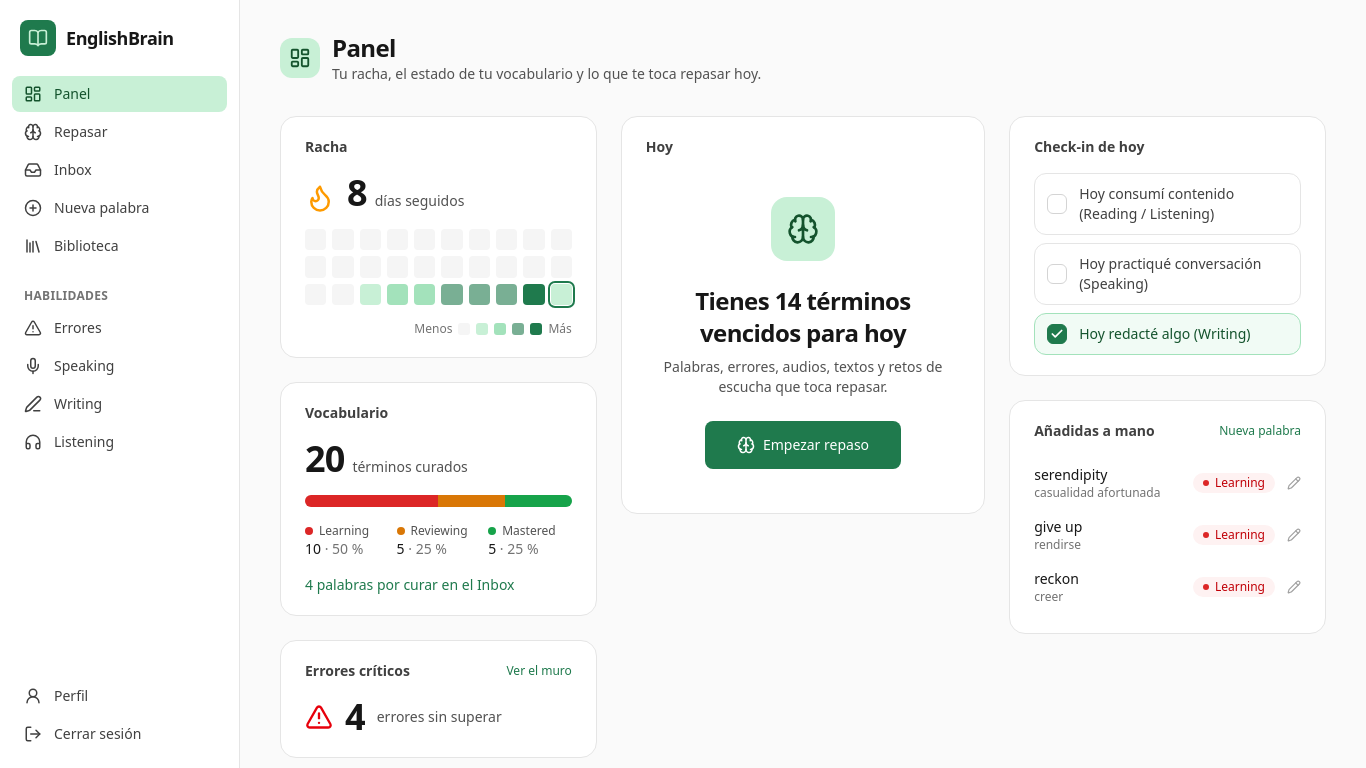
Test: 17.4 · Barra lateral › desmarcar lo quita; si el Backend falla, la casilla vuelve y avisa
Click the checkbox labelled "Hoy redacté algo (Writing)" at x=1168, y=334, box x1=1034 y1=313 x2=1301 y2=355
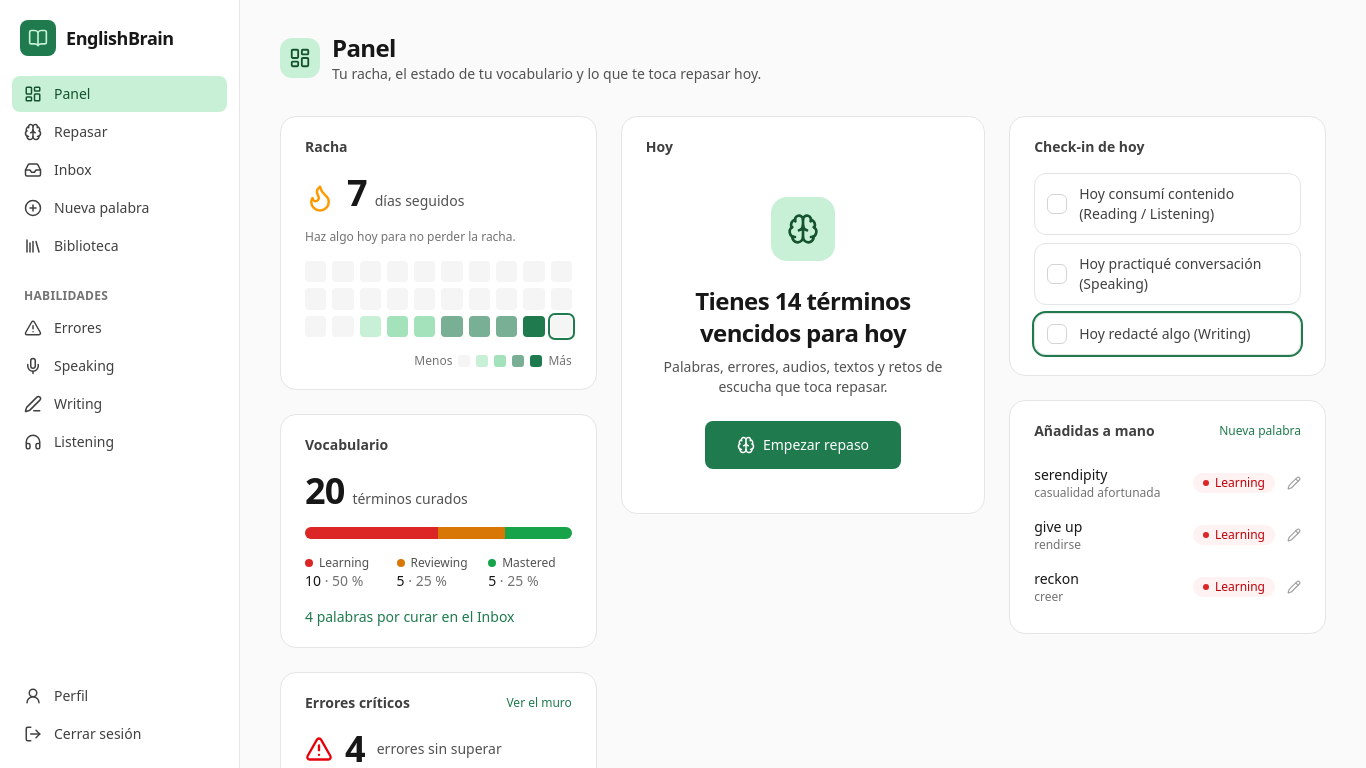
Check: the checkbox labelled "Hoy redacté algo (Writing)" is not checked
Check: the text with test id "streak" reads "7", box x1=347 y1=168 x2=367 y2=217
Click the checkbox labelled "Hoy redacté algo (Writing)" at x=1168, y=334, box x1=1034 y1=313 x2=1301 y2=355
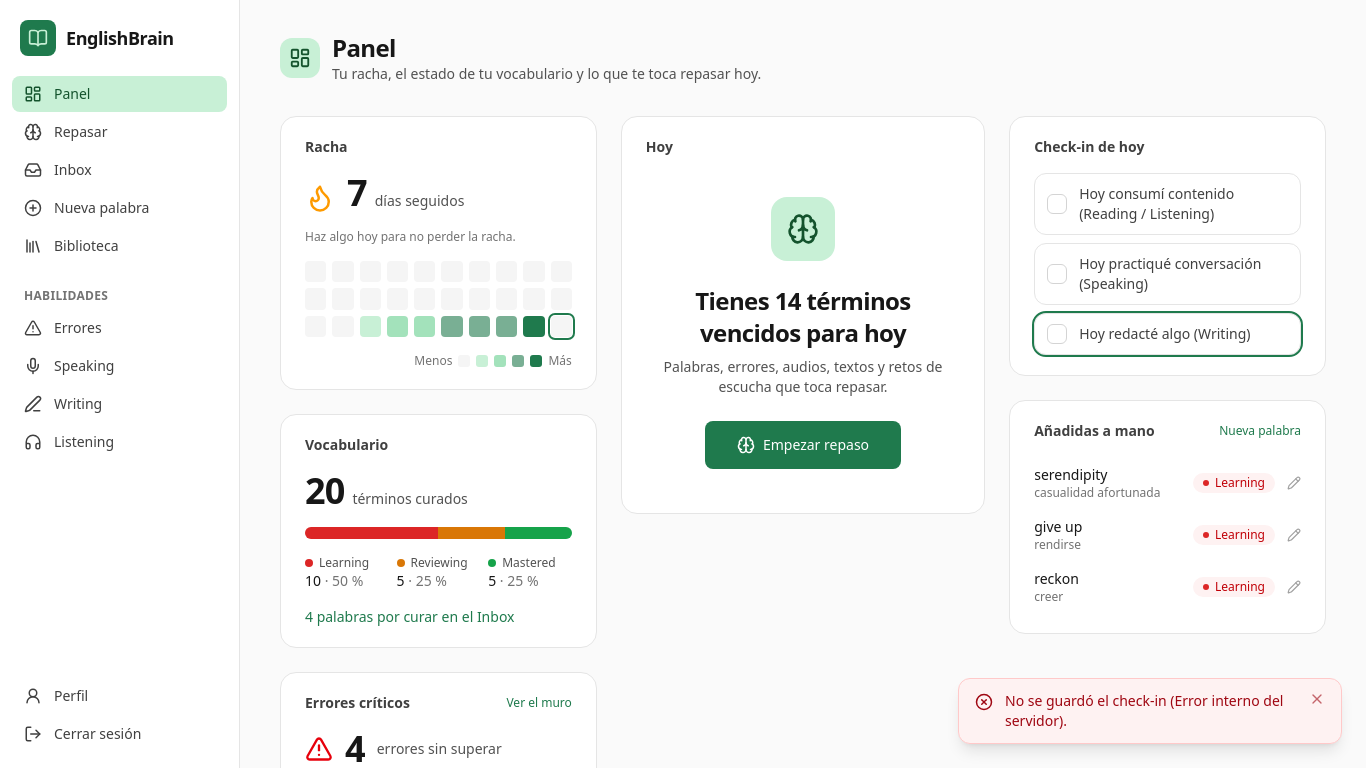
Check: the checkbox labelled "Hoy redacté algo (Writing)" is not checked, box x1=1034 y1=313 x2=1301 y2=355
Check: the list item named "12 oct (hoy): 0 actividades" is shown, box x1=550 y1=316 x2=572 y2=337
Check: the text "No se guardó el check-in (Error interno del servidor)." is shown, box x1=1005 y1=691 x2=1297 y2=731
